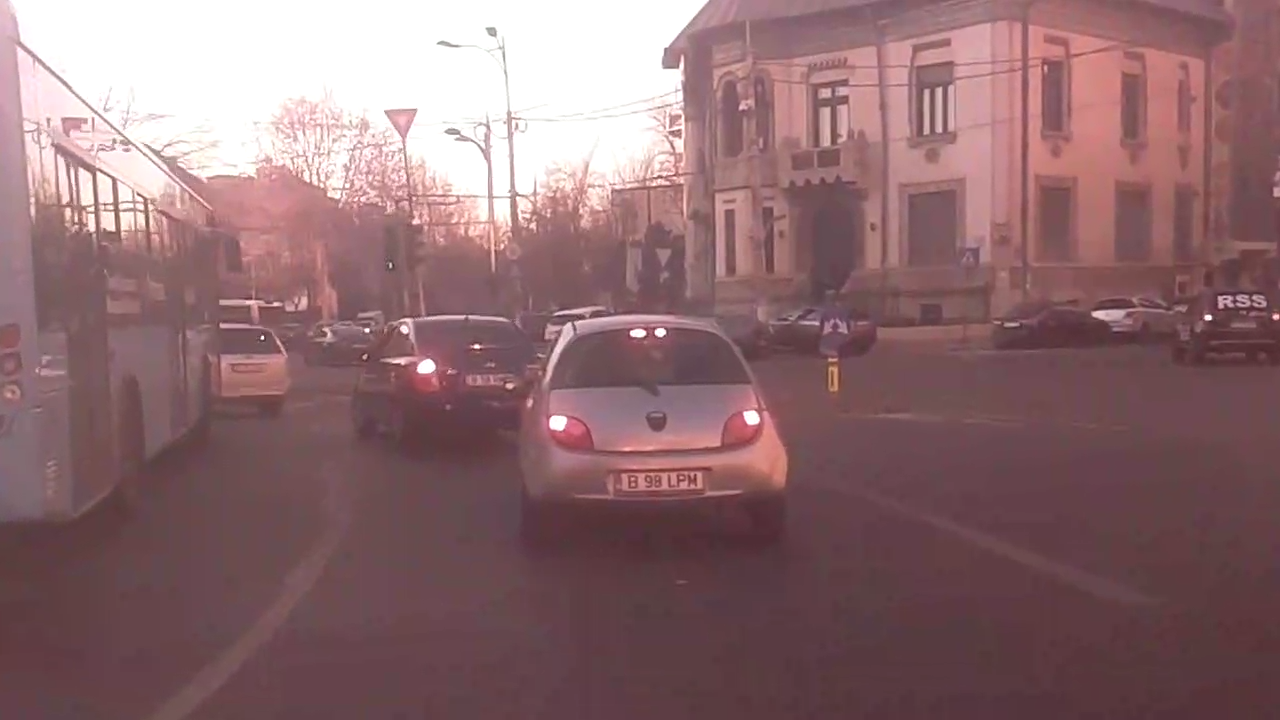license-plate: (609, 465, 709, 496)
